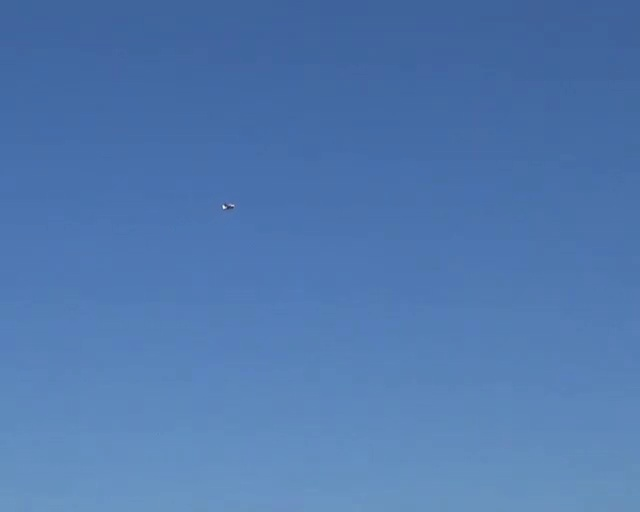AIRPLANE: (221, 202, 234, 210)
